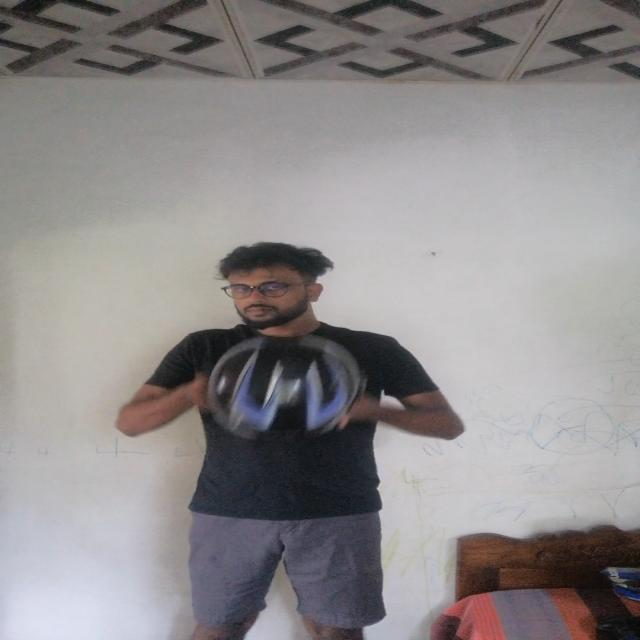Person: (124, 223, 449, 640)
